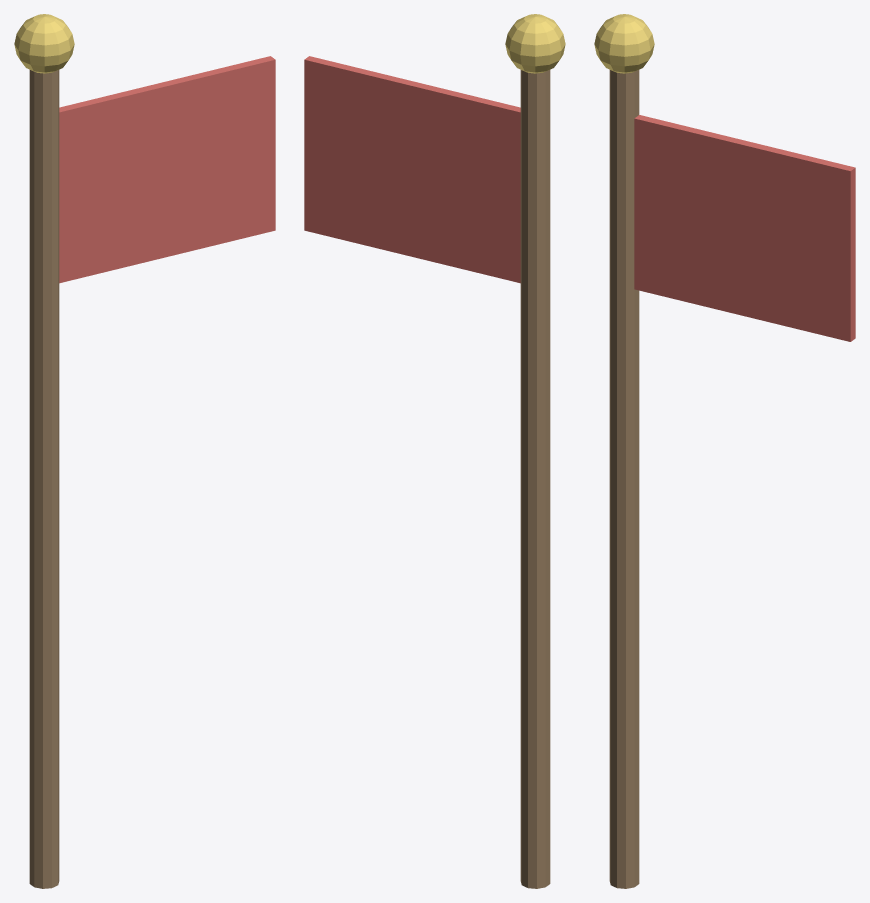
The model's file is banner.glb.
3 views of the same model, side by side, from view 1: azimuth 30°, elevation 25°; view 2: azimuth 150°, elevation 25°; view 3: azimuth 330°, elevation 25° (orthographic).
Visible parts, largest first — view 1: Banner, Pole, Finial; view 2: Banner, Pole, Finial; view 3: Banner, Pole, Finial.
Part boxes in pixels (x1,y1,x2,y2): Banner: (59,56,275,283); Pole: (29,70,59,888); Finial: (14,14,74,73); Banner: (304,56,520,283); Pole: (520,70,550,888); Finial: (505,14,565,73); Banner: (634,115,855,341); Pole: (609,70,639,888); Finial: (594,14,654,73).
Bounding box in the file's own units: 1.17 × 3.8 × 0.24.
